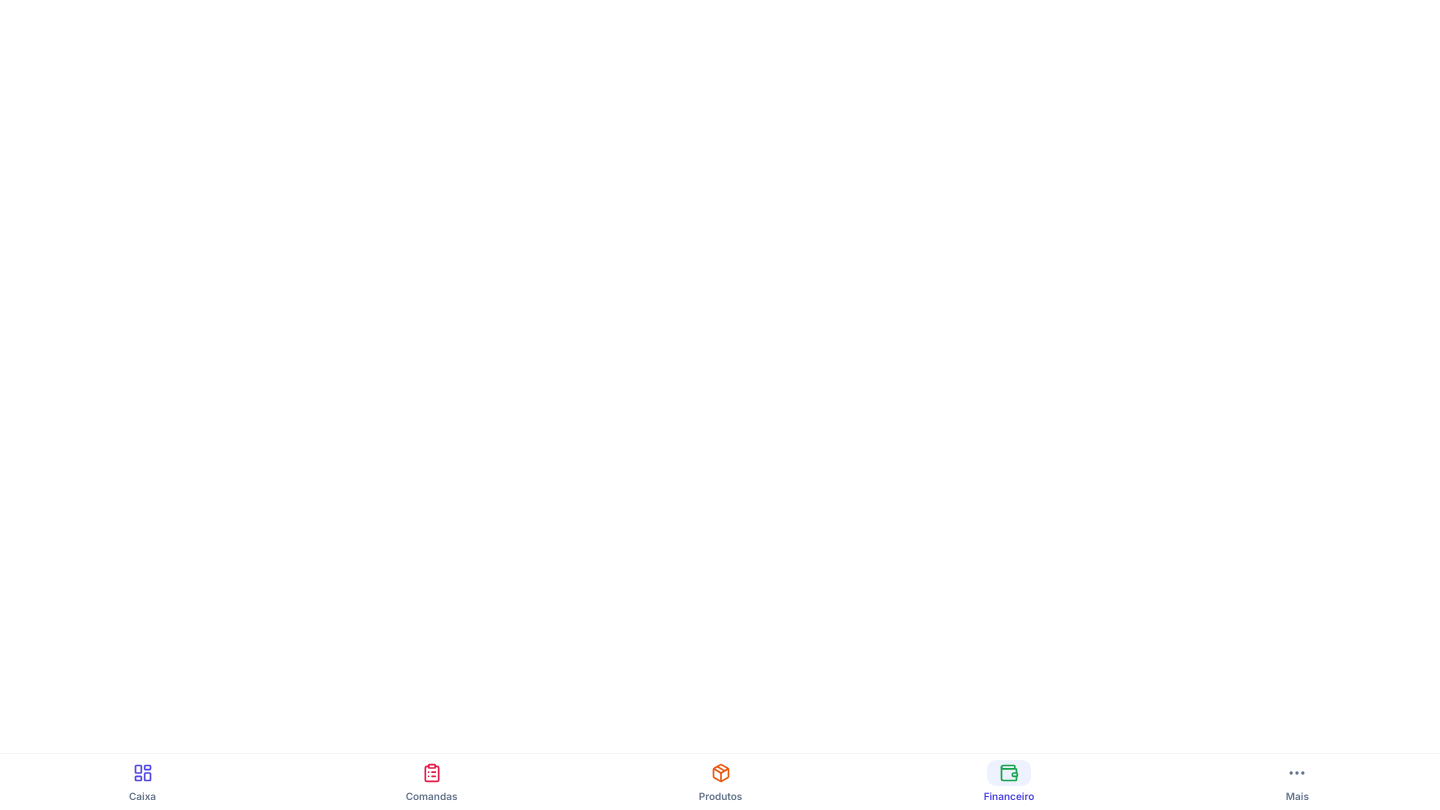
Scenario: BottomNav (RF03–RF05, RN01, RN02) › T15 — clicking a drawer link closes the drawer
Click the button with aria-label "mais opções" at [1297, 782], box [1263,754,1331,809]
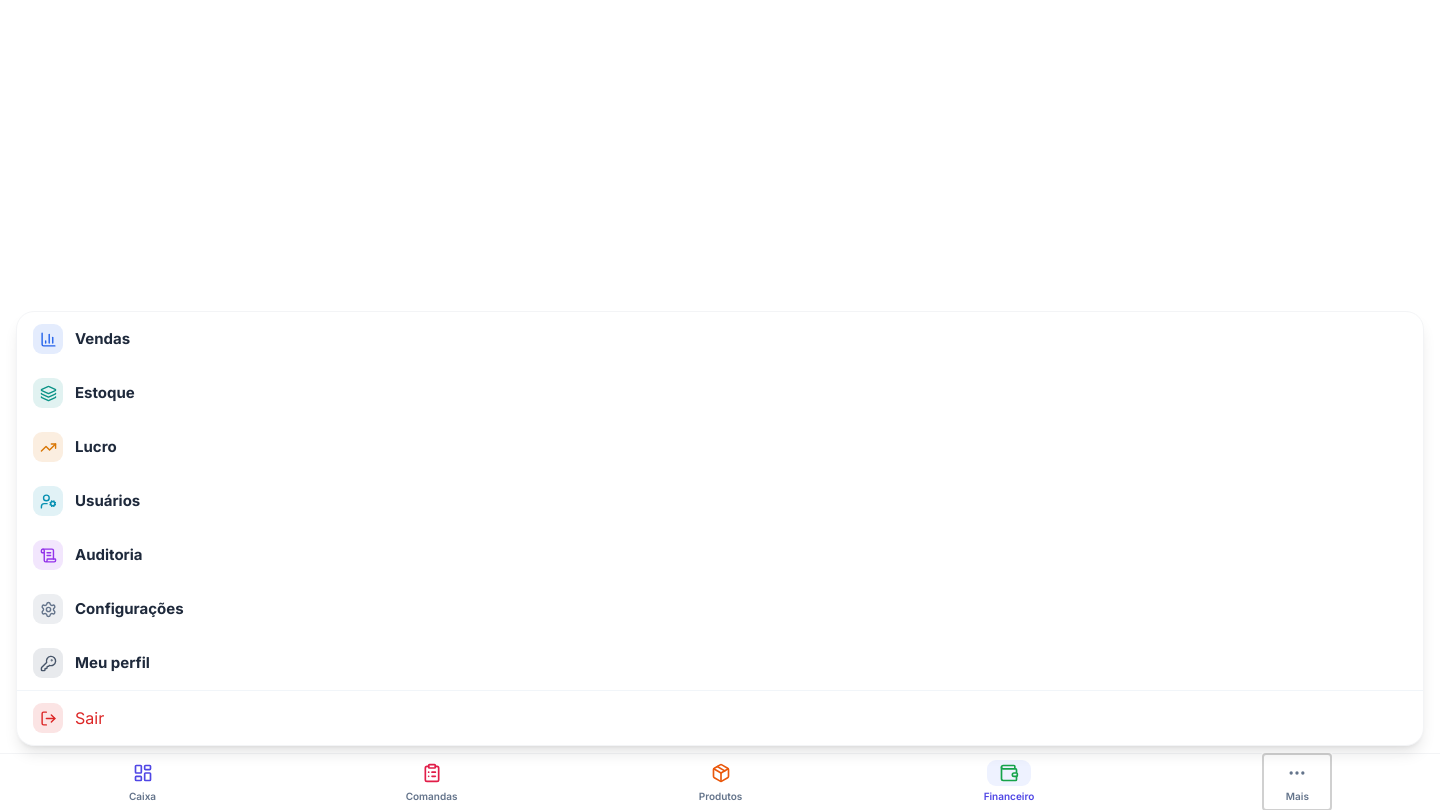
Click the menu item "Vendas" at [82, 339], box [33,324,130,354]
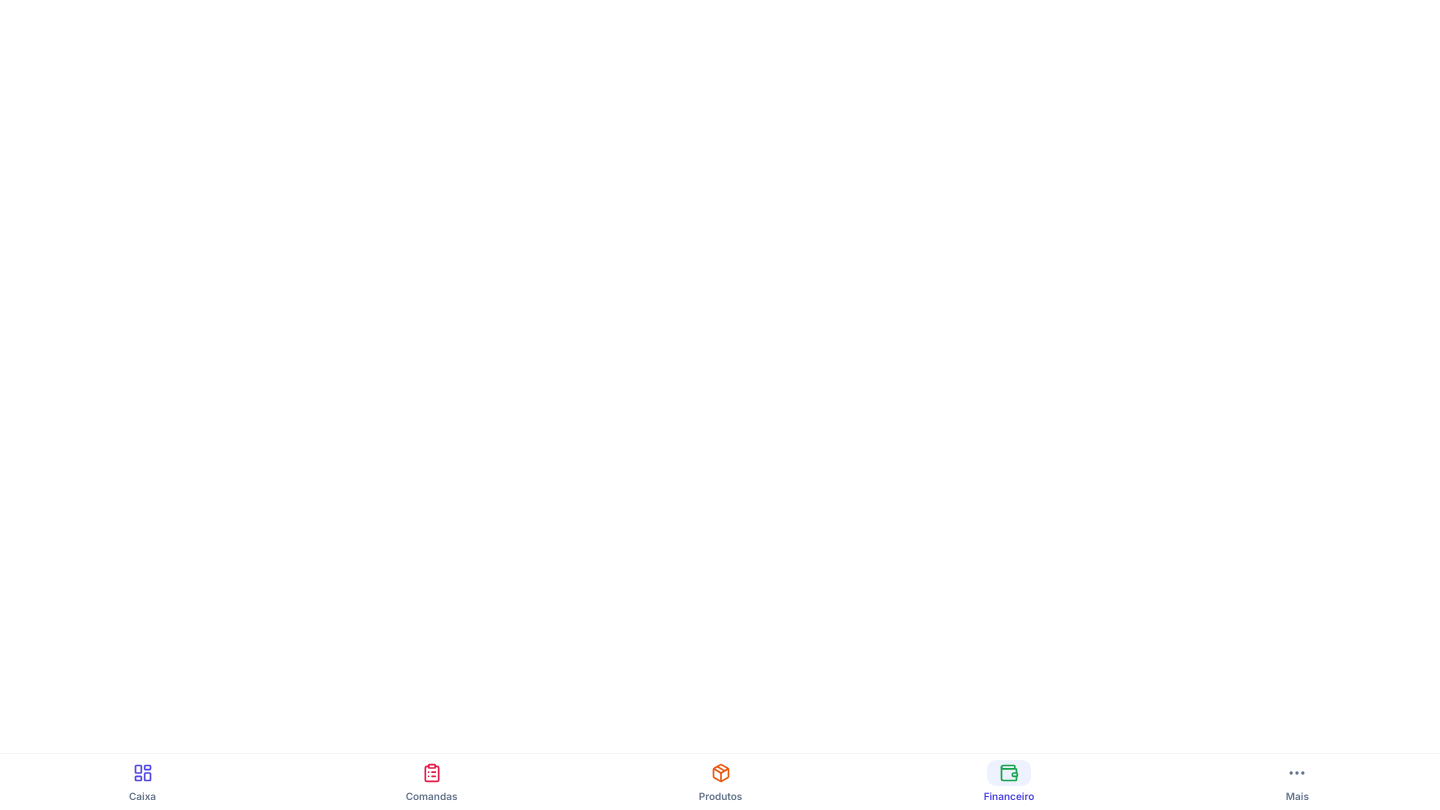
Result: the menu is gone
